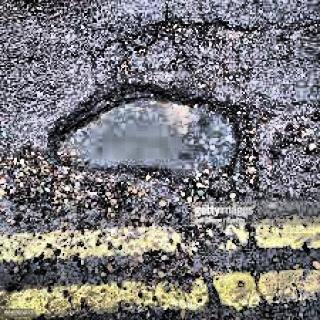pothole: (55, 84, 254, 188)
